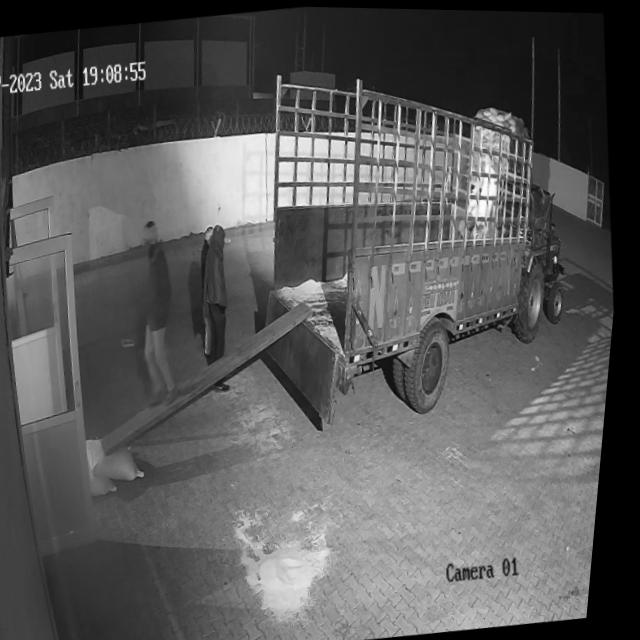sack: (89, 432, 156, 487)
